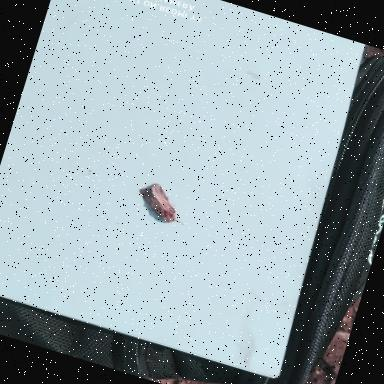abw: (132, 179, 192, 226)
